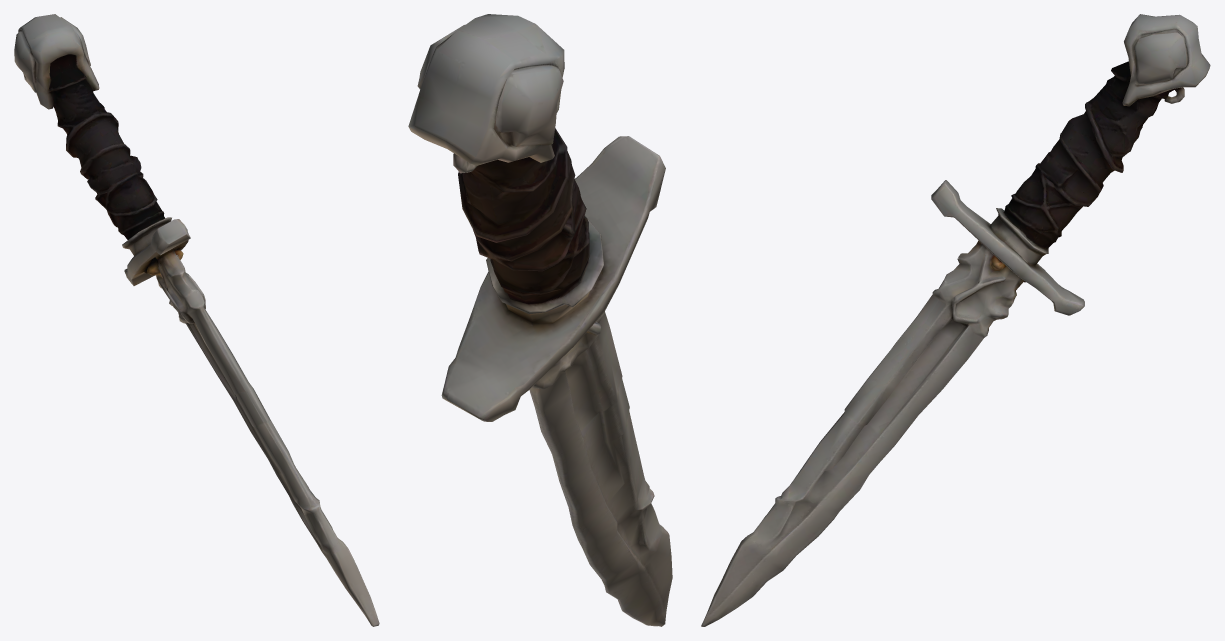
Rendered from w_dagger.glb.
The picture shows the model from 3 angles, left to right: view 1: azimuth 30°, elevation 25°; view 2: azimuth 150°, elevation 25°; view 3: azimuth 270°, elevation 25°; orthographic projection. The views are drawn at different scales.
Visible parts, largest first — view 1: tripo_node_ac90d62a-1093-4fe6-b6e1-1409a5d63453; view 2: tripo_node_ac90d62a-1093-4fe6-b6e1-1409a5d63453; view 3: tripo_node_ac90d62a-1093-4fe6-b6e1-1409a5d63453.
Part boxes in pixels (x1,y1,x2,y2): tripo_node_ac90d62a-1093-4fe6-b6e1-1409a5d63453: (14,14,379,626); tripo_node_ac90d62a-1093-4fe6-b6e1-1409a5d63453: (408,14,672,626); tripo_node_ac90d62a-1093-4fe6-b6e1-1409a5d63453: (701,14,1210,626).
Size of the model in its own units: 0.3346 by 1 by 0.8494.
Materials: 1 (1 with a texture image).
